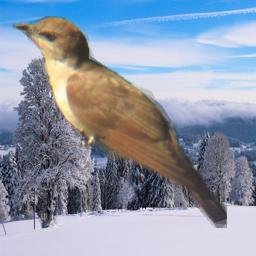Cuckoo: (12, 16, 227, 228)
